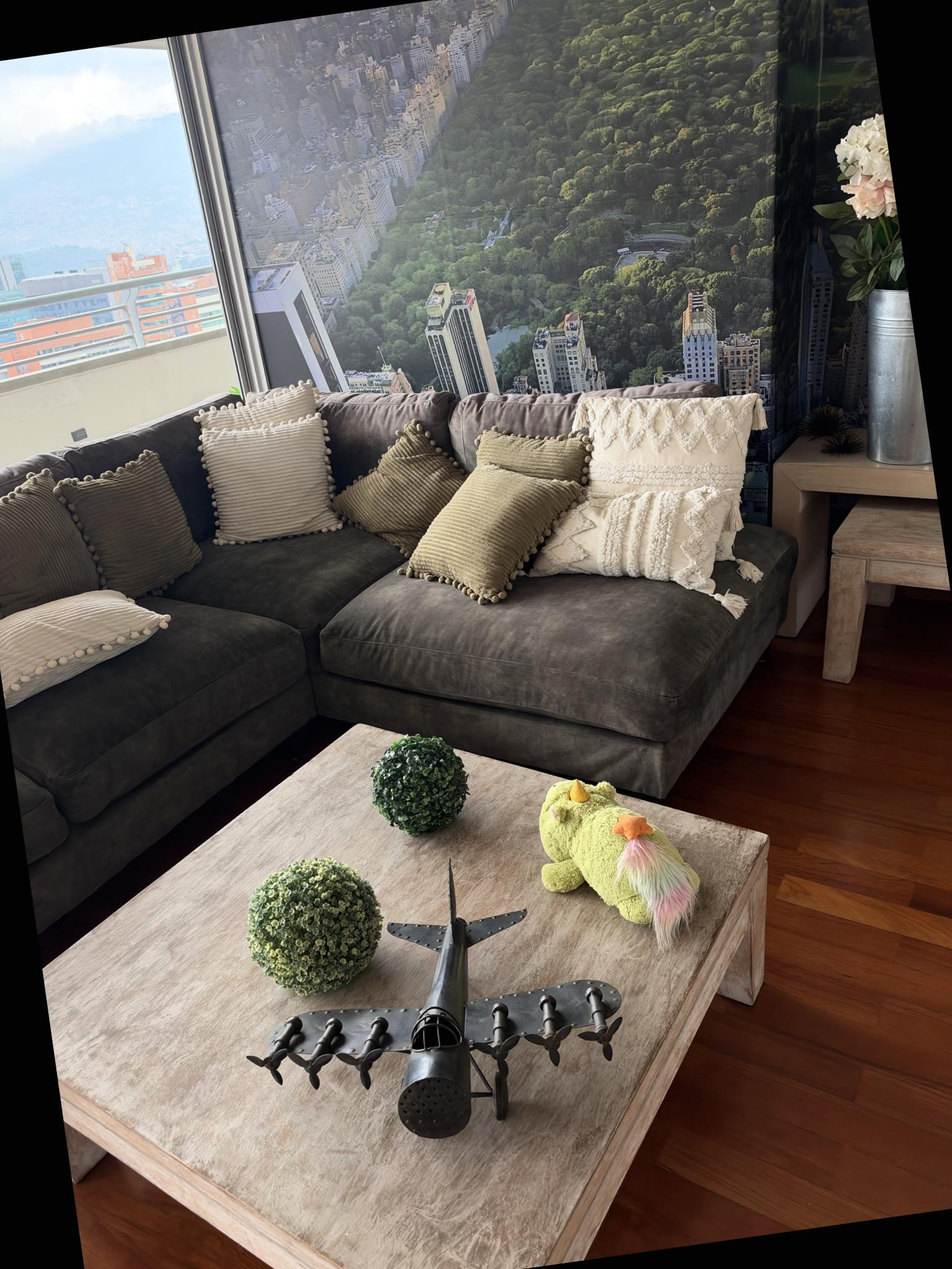peluche_martin: (528, 762, 710, 963)
